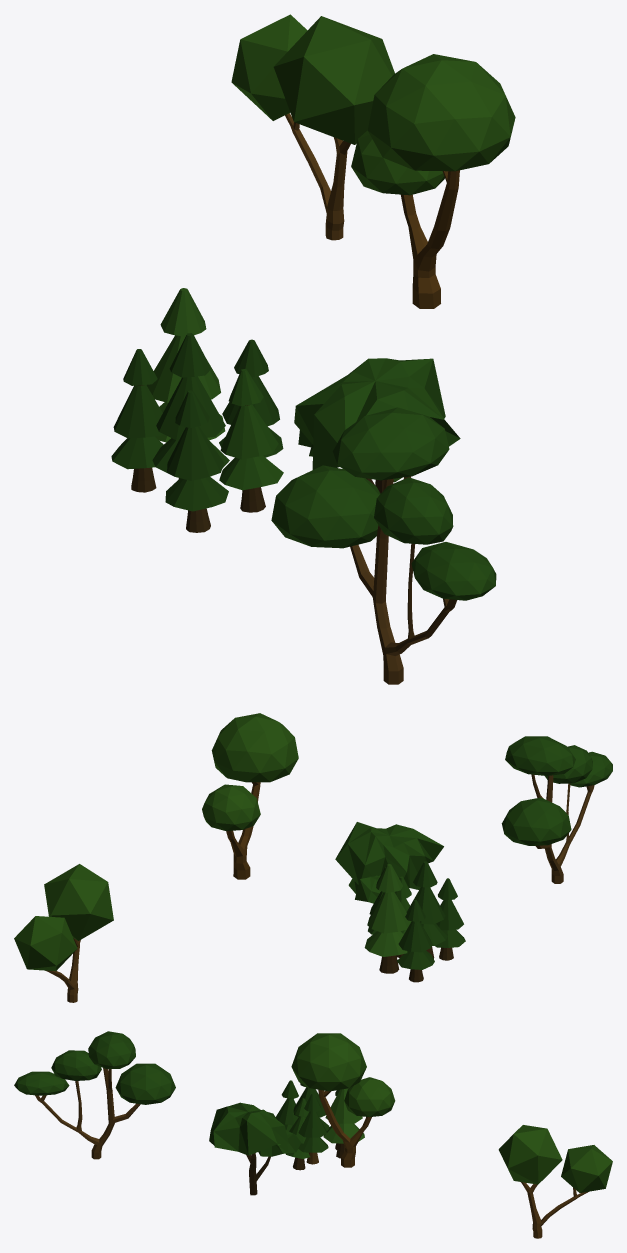
Rendered from Cenario.fbx.
3 views of the same model, one above another, from view 1: azimuth 30°, elevation 25°; view 2: azimuth 150°, elevation 25°; view 3: azimuth 270°, elevation 25° (orthographic). The views are drawn at different scales.
Visible parts, largest first — view 1: Cylinder.002_Cylinder.003, Icosphere.008, Icosphere.010, leaves, Icosphere.005, Icosphere.003, Icosphere.004, Icosphere, Icosphere.002, Icosphere.001; view 2: Icosphere.008, Cylinder.002_Cylinder.003, Icosphere.010, leaves, Icosphere.002, Icosphere.004, Icosphere, Icosphere.005; view 3: Cylinder.002_Cylinder.003, Icosphere.008, Icosphere.010, leaves, Icosphere.001, Icosphere.002, Icosphere.003, Icosphere.005, trunks, Icosphere.
Part boxes in pixels (x1,y1,x2,y2): Cylinder.002_Cylinder.003: [271, 407, 496, 684]; Icosphere.008: [351, 54, 515, 308]; Icosphere.010: [231, 14, 394, 240]; leaves: [294, 358, 460, 482]; Icosphere.005: [165, 390, 228, 532]; Icosphere.003: [219, 369, 283, 512]; Icosphere.004: [111, 349, 163, 492]; Icosphere: [152, 333, 229, 478]; Icosphere.002: [146, 288, 225, 442]; Icosphere.001: [219, 339, 283, 457]; Icosphere.008: [202, 713, 298, 879]; Cylinder.002_Cylinder.003: [501, 736, 612, 883]; Icosphere.010: [14, 864, 113, 1002]; leaves: [335, 822, 443, 903]; Icosphere.002: [364, 864, 411, 973]; Icosphere.004: [397, 900, 434, 982]; Icosphere: [406, 861, 447, 958]; Icosphere.005: [435, 878, 465, 960]; Cylinder.002_Cylinder.003: [14, 1031, 175, 1159]; Icosphere.008: [291, 1033, 395, 1167]; Icosphere.010: [498, 1125, 612, 1238]; leaves: [209, 1102, 301, 1156]; Icosphere.001: [298, 1093, 328, 1164]; Icosphere.002: [323, 1088, 364, 1158]; Icosphere.003: [286, 1098, 310, 1170]; Icosphere.005: [275, 1080, 298, 1131]; trunks: [246, 1153, 270, 1195]; Icosphere: [292, 1083, 329, 1130].
Bounding box in the file's own units: 631 × 468 × 1325.
